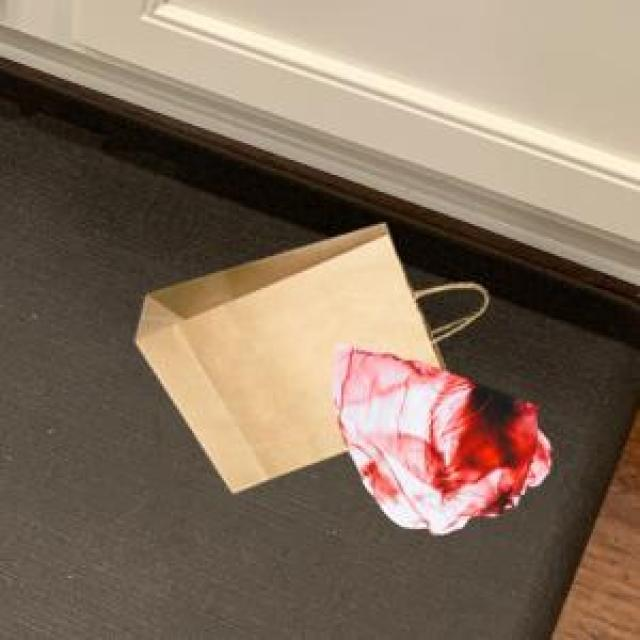paper: (132, 220, 484, 489)
